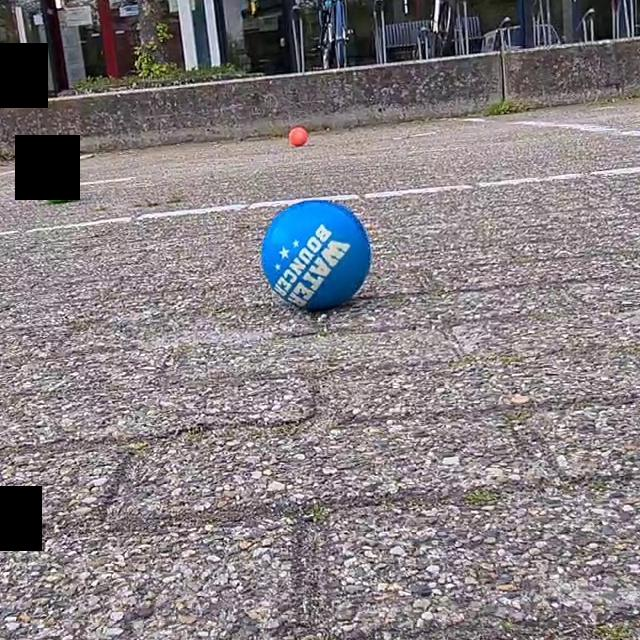ball: (38, 163, 78, 207), (285, 124, 310, 149)
